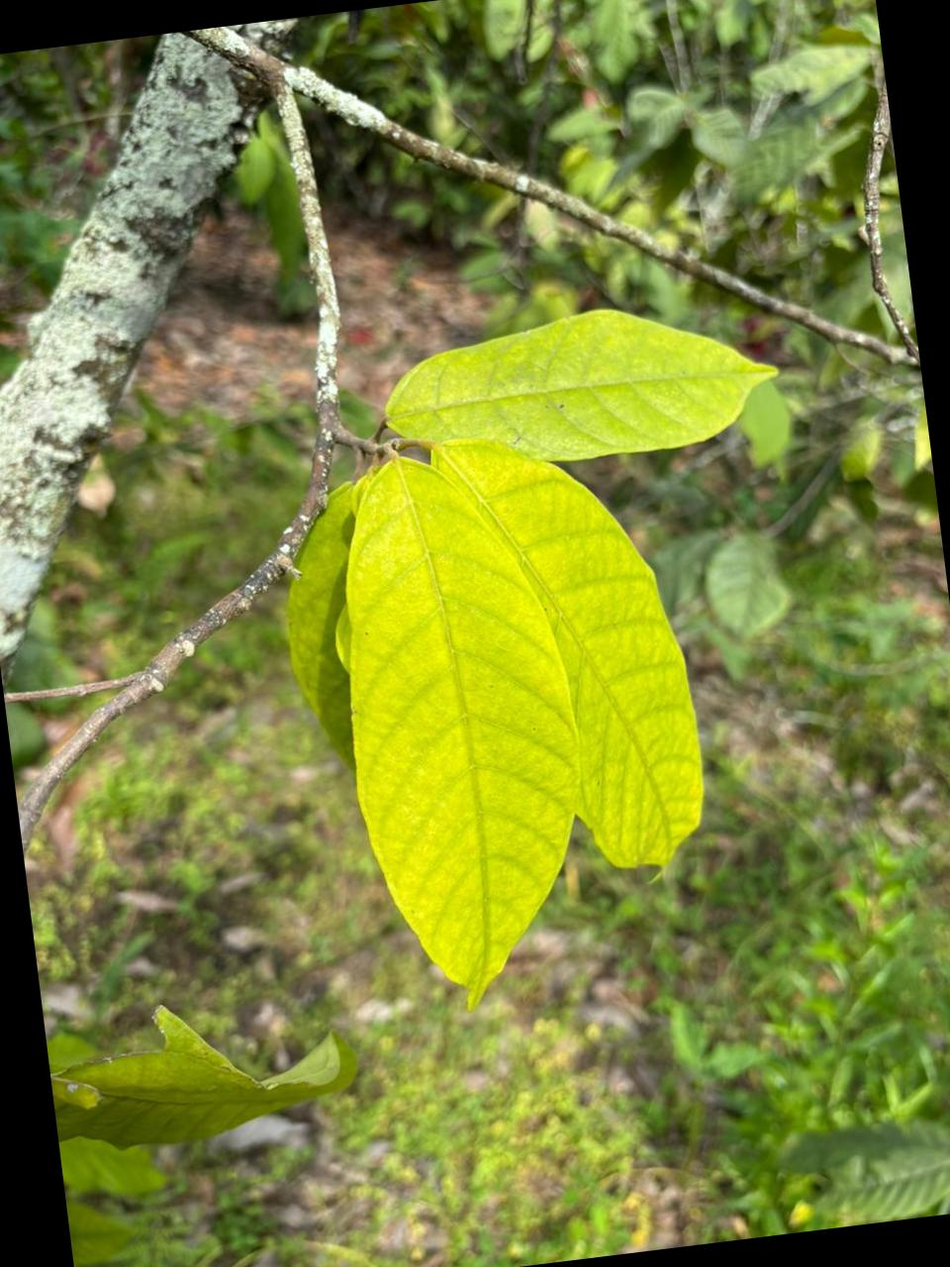Nitrogeno: (346, 458, 577, 1004), (434, 441, 702, 866), (385, 310, 773, 460)
